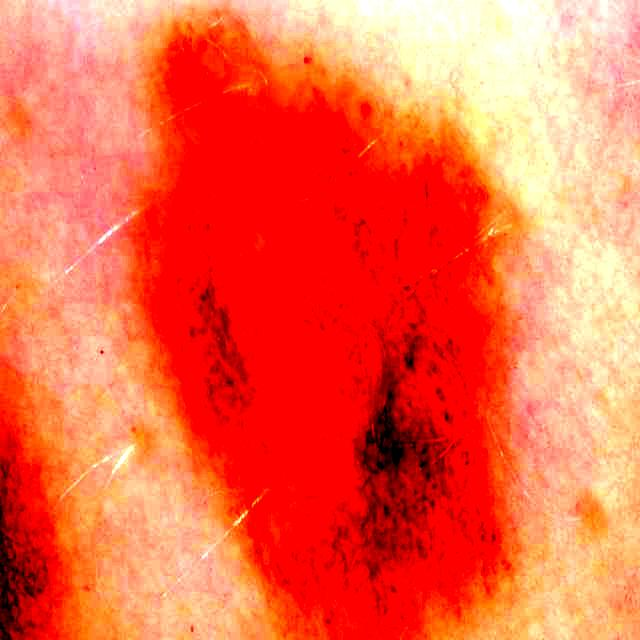NV: (159, 16, 503, 637)
